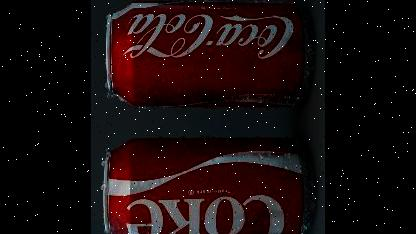Can: (104, 0, 315, 108), (100, 135, 315, 234)
